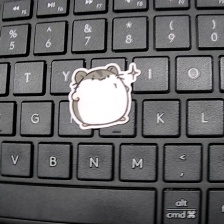mouse: (67, 61, 144, 133)
